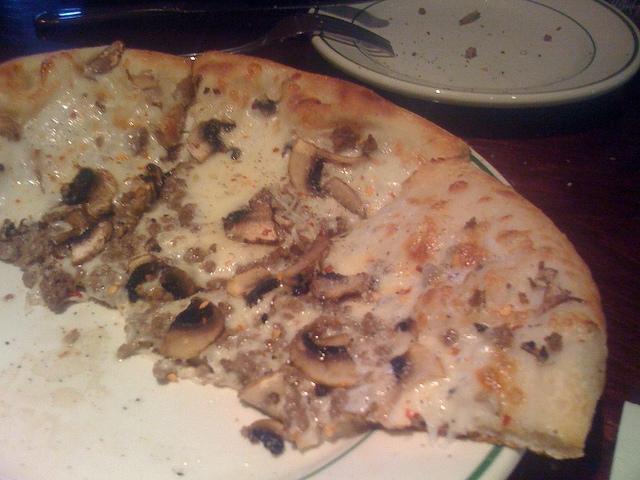mushroom: (287, 138, 368, 197), (160, 296, 226, 360), (290, 331, 357, 388), (222, 188, 279, 246), (240, 372, 291, 428), (311, 260, 376, 302), (187, 118, 243, 164), (281, 235, 331, 286), (225, 267, 280, 308), (61, 168, 118, 206), (70, 220, 113, 267), (240, 418, 296, 454), (323, 176, 367, 218), (160, 266, 206, 300), (50, 208, 94, 243), (83, 40, 124, 74), (84, 199, 118, 226), (134, 182, 158, 216), (394, 317, 418, 338), (121, 191, 135, 204)
